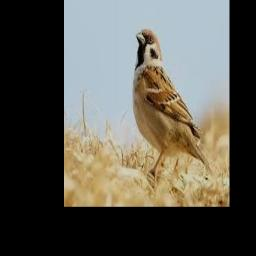Sparrow: (133, 30, 213, 177)
